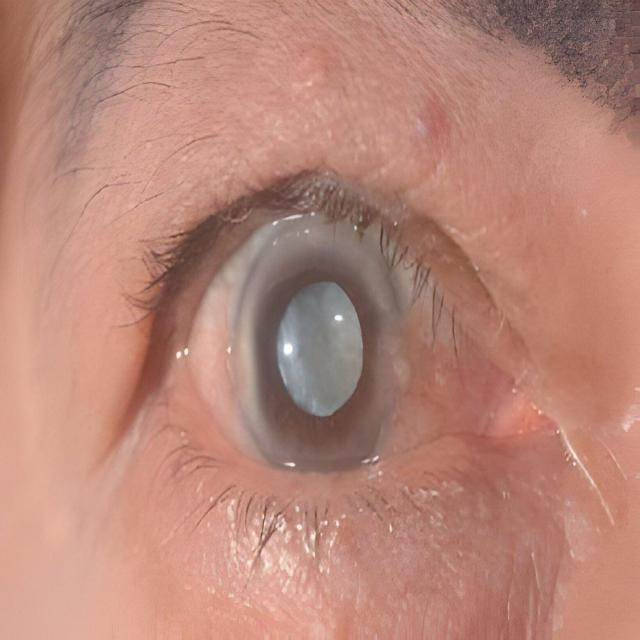Cataract: (228, 205, 402, 470)
